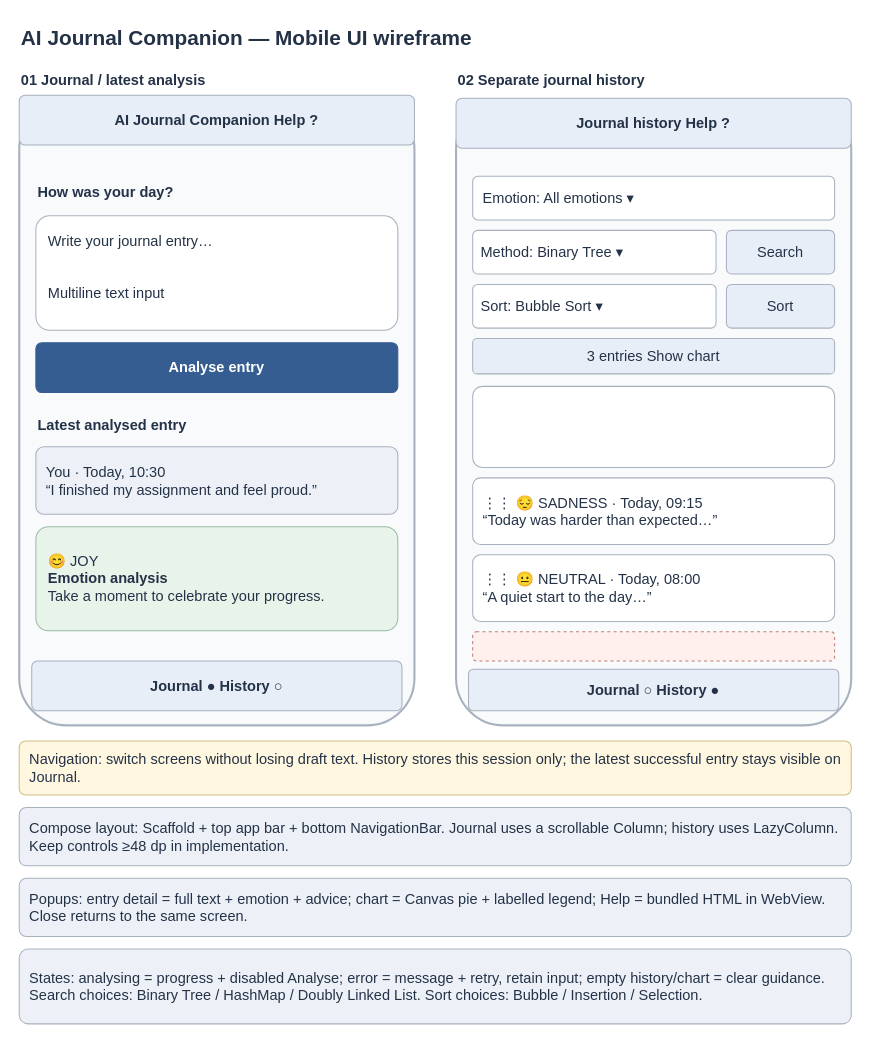
This 889x1042 diagram has some shape labels left out. Each missing label, with the centre of its shape:
"Drop entry here to delete" goes at [653,646].
"⋮⋮ 😊 JOY · Today, 10:30 “I finished my assignment…” Tap to read entry and advice" goes at [653,426].
